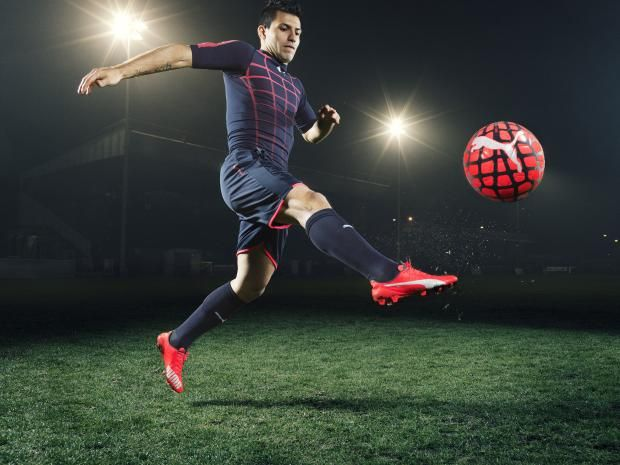football boots: (370, 262, 460, 307), (156, 330, 186, 393)
